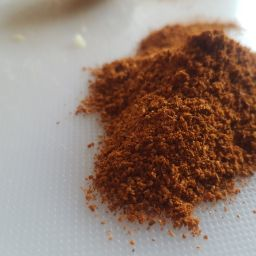Garam masala: (58, 21, 256, 256), (75, 60, 256, 241), (122, 14, 256, 242), (164, 84, 255, 192)
